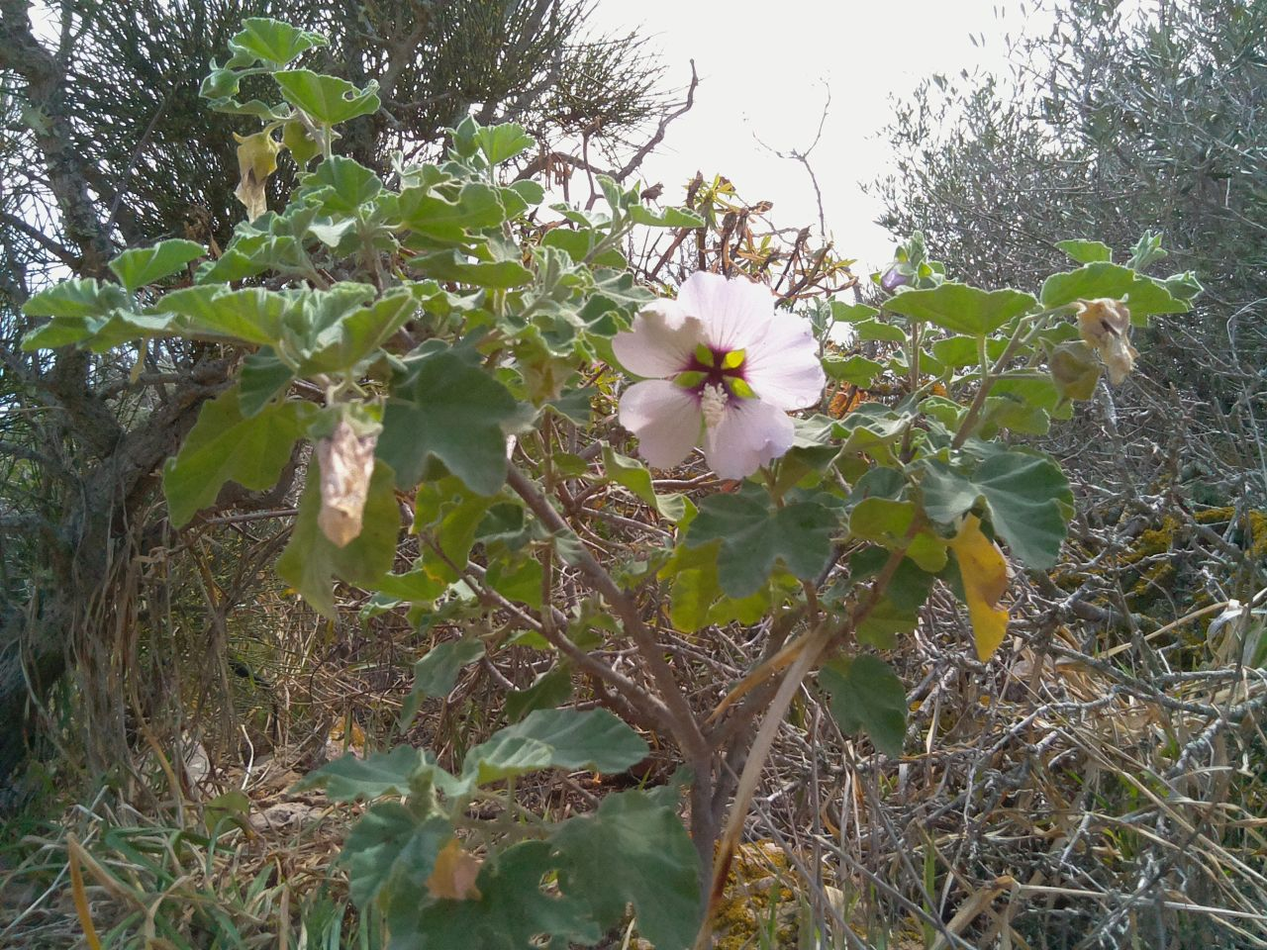Fly: (726, 400, 750, 412)
